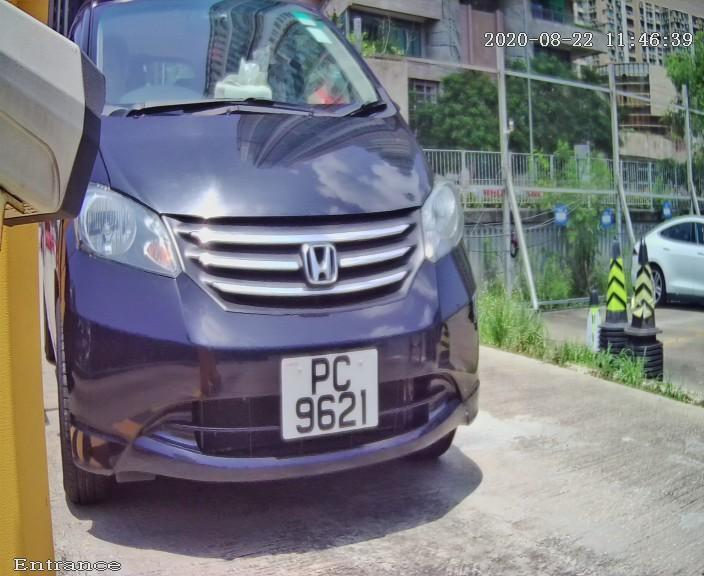License Plate: (274, 340, 381, 448)
